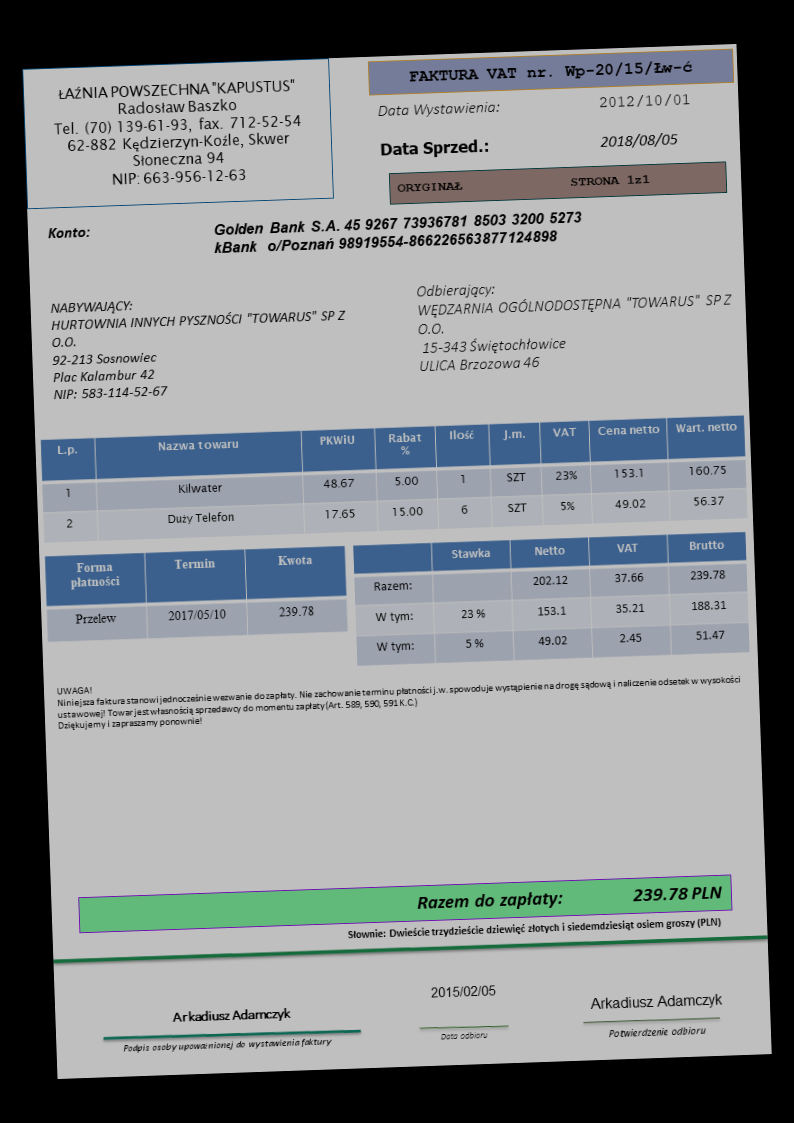Table: (39, 414, 749, 546), (351, 530, 750, 666), (42, 544, 349, 644)
TextBox: (54, 661, 743, 732), (47, 289, 351, 402), (413, 272, 735, 375), (50, 75, 305, 189), (210, 209, 585, 257), (345, 914, 721, 942), (414, 882, 725, 913), (407, 56, 696, 86), (394, 169, 651, 196), (120, 1033, 335, 1056), (588, 991, 725, 1015), (378, 135, 491, 161), (376, 98, 503, 121), (170, 1005, 293, 1026), (597, 91, 694, 113), (605, 1023, 707, 1040), (598, 131, 681, 150), (428, 982, 497, 1000), (46, 223, 90, 242), (438, 1029, 488, 1041)
